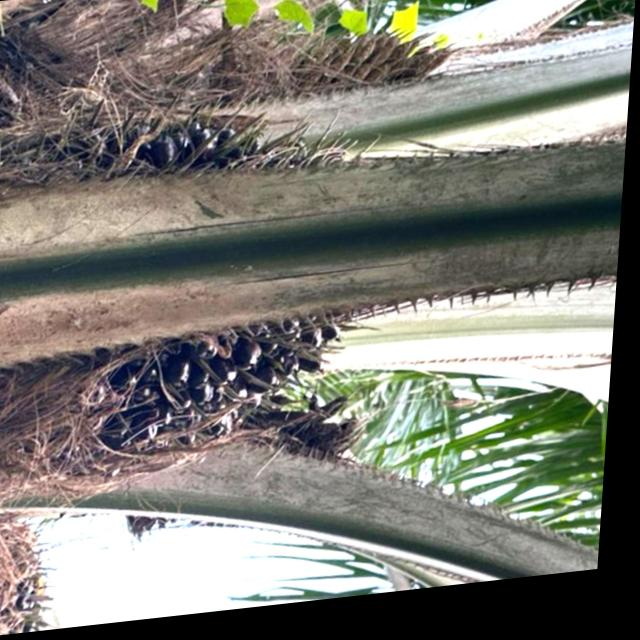ripe: (59, 64, 429, 475)
